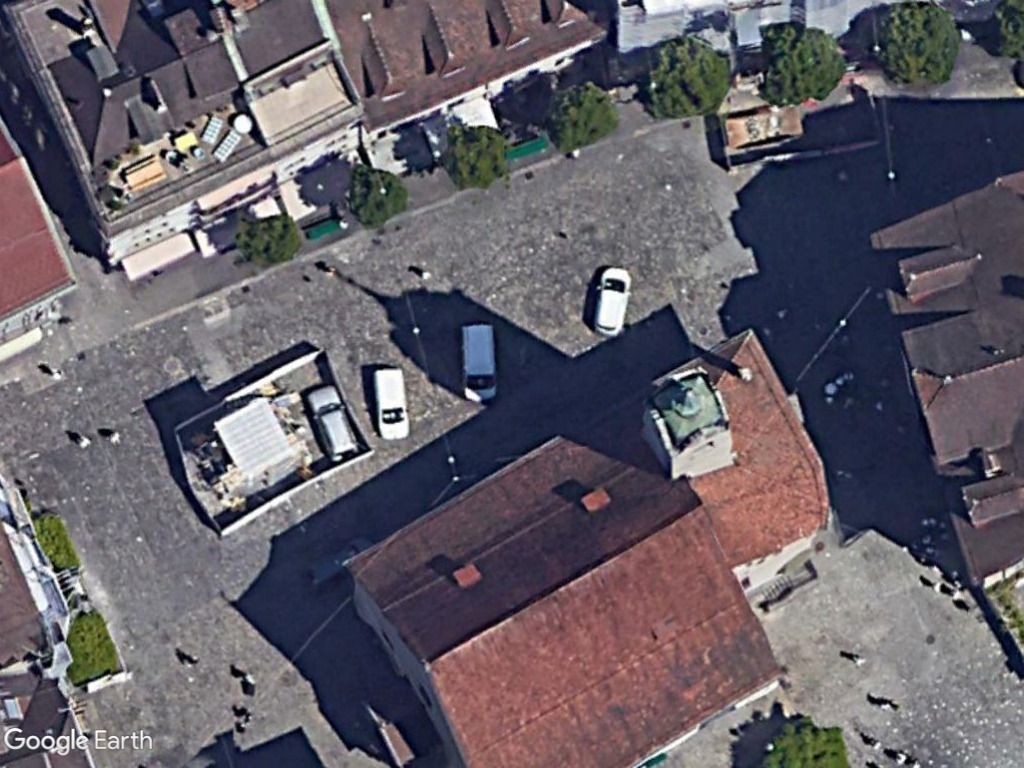car: (304, 382, 362, 465), (590, 262, 633, 338), (371, 363, 411, 444)
van: (458, 319, 497, 407)
